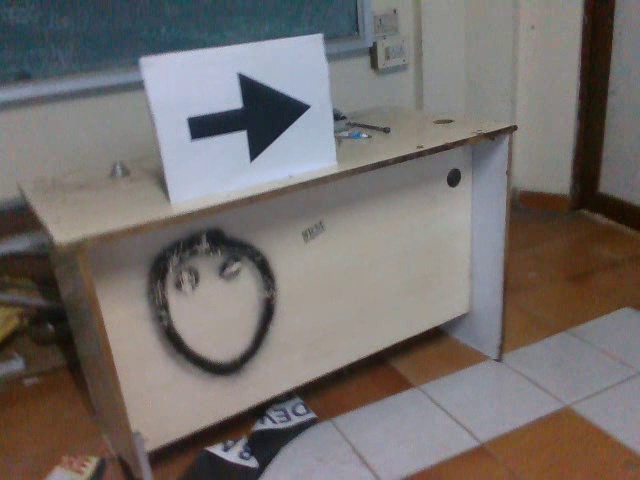Right: (174, 71, 315, 167)
